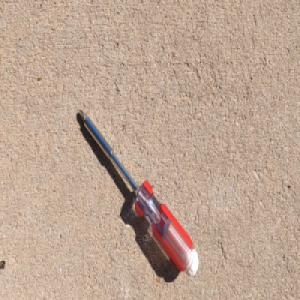Screwdriver: (77, 106, 200, 279)
